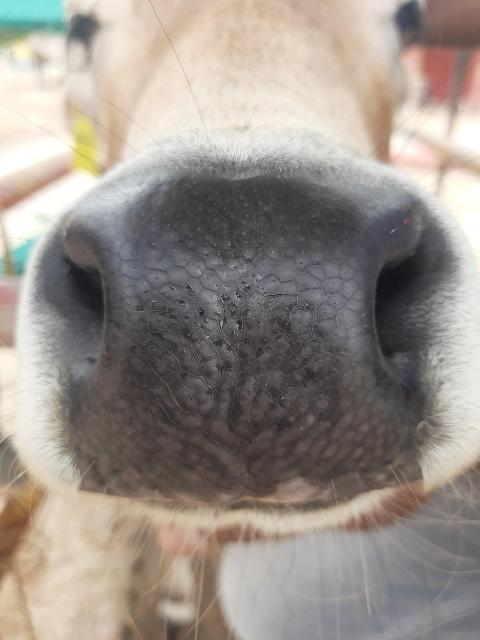Muzzle: (86, 212, 374, 488)
